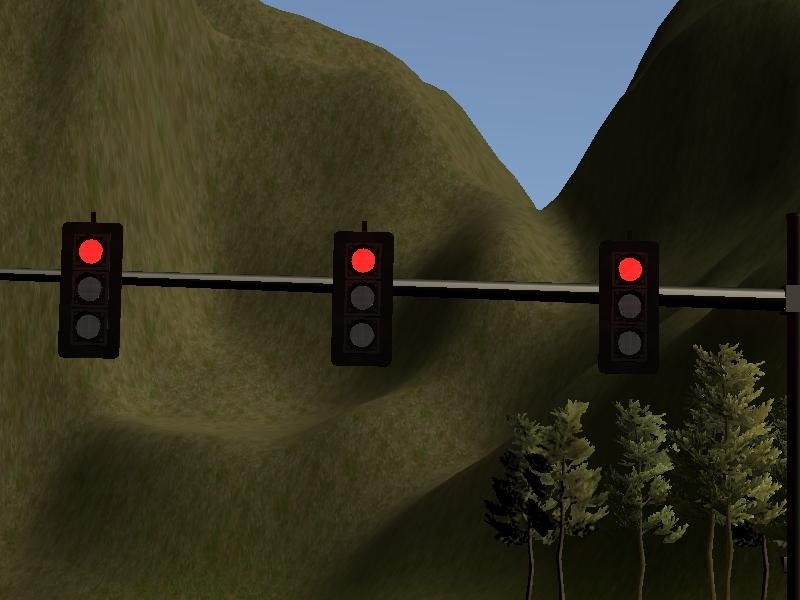red: (53, 217, 127, 362), (593, 237, 663, 378), (327, 229, 396, 370)
